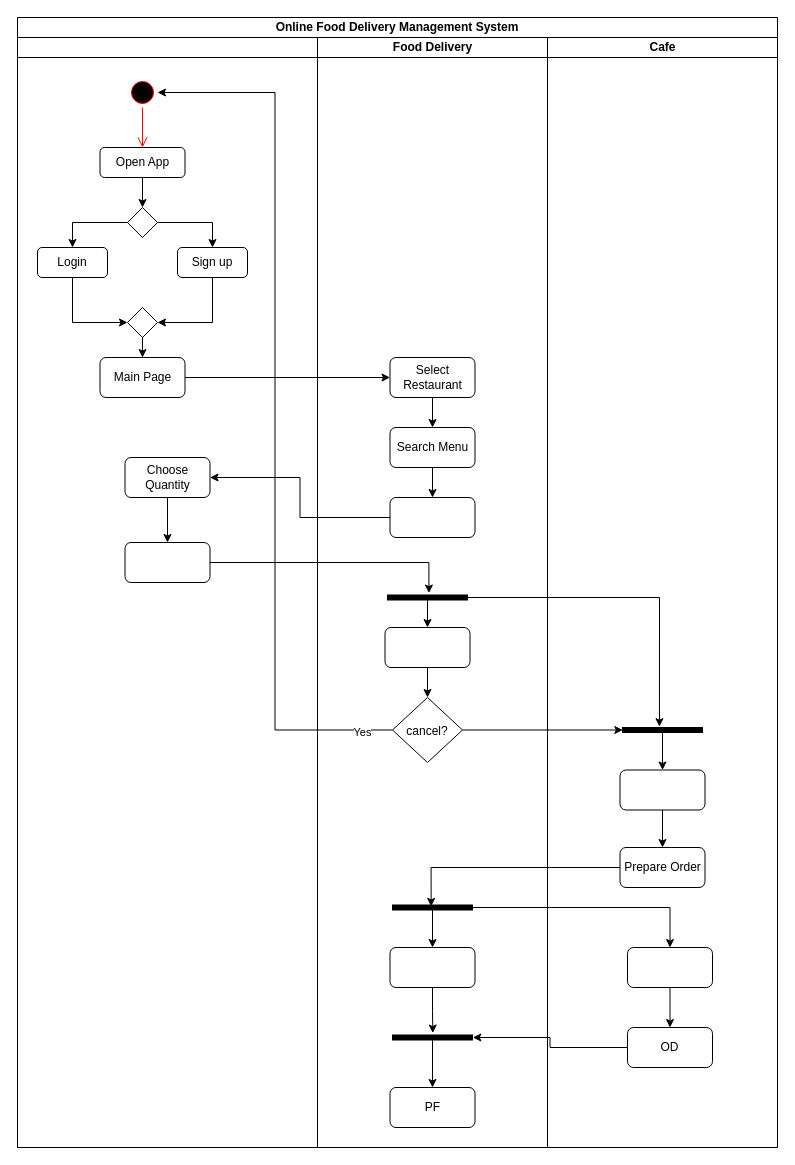
The diagram is 795 pixels wide and 1165 high, and some of its shapes have lost their labels. Here are the shapes that lost their labels. From the top down, the box of each, then its label:
(389, 496, 475, 538): Add to Cart
(124, 542, 210, 582): Choose Payment
(16, 36, 318, 1148): Customer
(384, 626, 470, 668): Paid
(619, 769, 705, 810): Order Received
(389, 946, 475, 988): OP
(626, 946, 712, 988): RA
